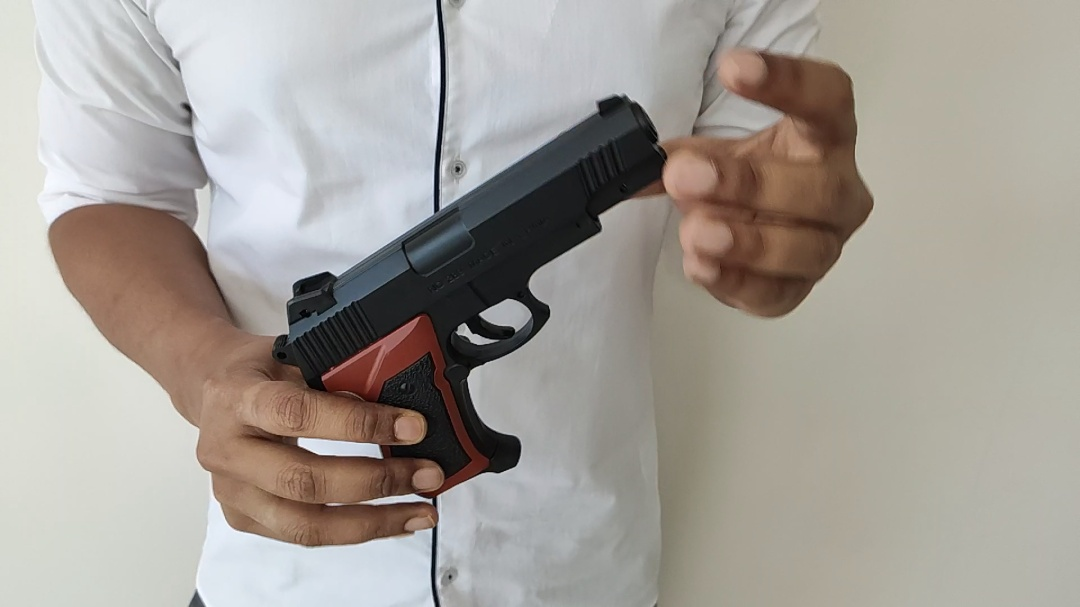gun: (272, 94, 671, 455)
